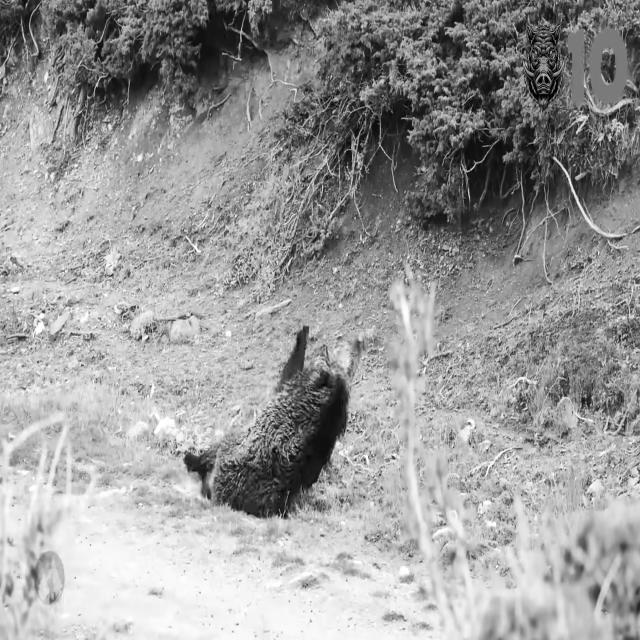boar: (184, 326, 362, 516)
